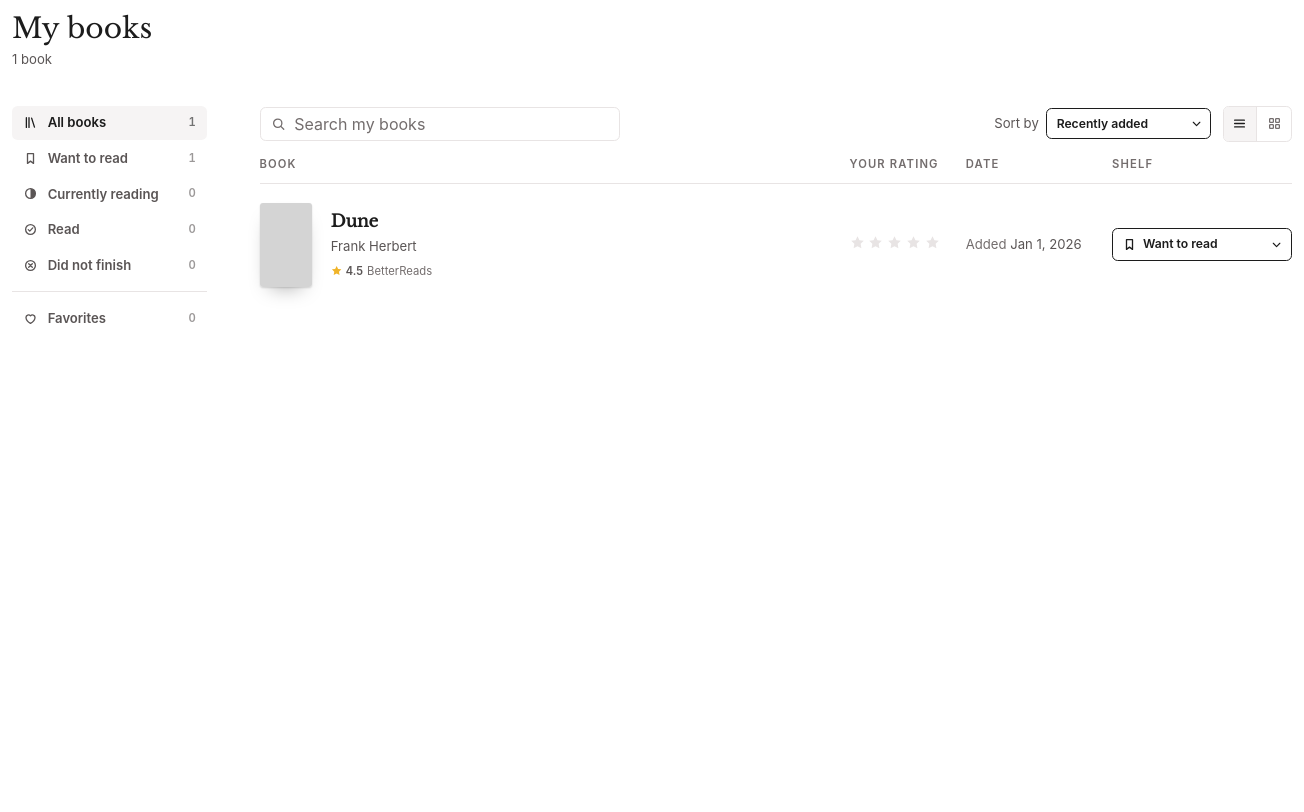
it: ShelfList › should say when a rating from a cover fails to save
This screenshot has width=1304, height=812.
Check: the link "Dune" is shown, box [331, 211, 378, 232]
What coordinates should you click on to do the following:
click the button named "Cover view"
I would click on:
 (1274, 124)
Its box is [1257, 107, 1291, 141].
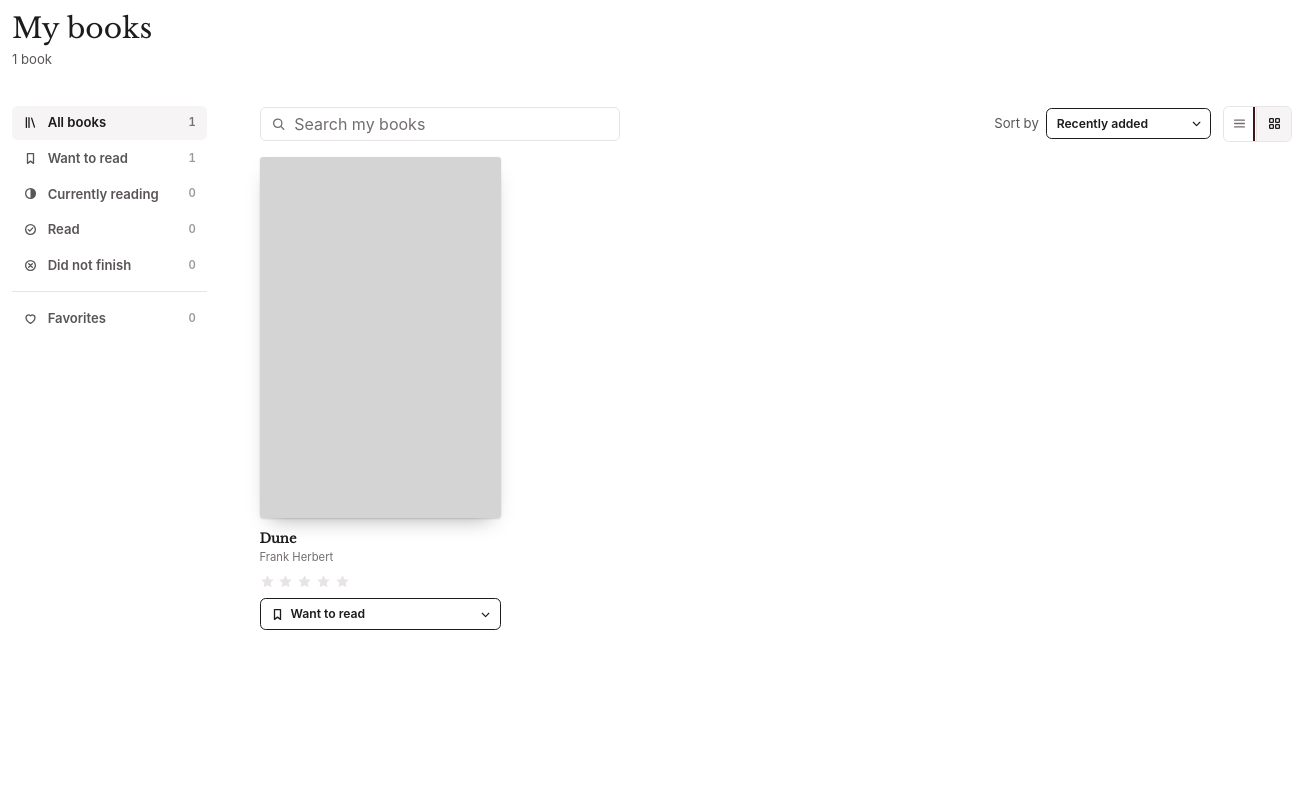
What coordinates should you click on to do the following:
click the button named "Rate 4 of 5"
I would click on:
 (323, 581)
Its box is [316, 574, 331, 589].
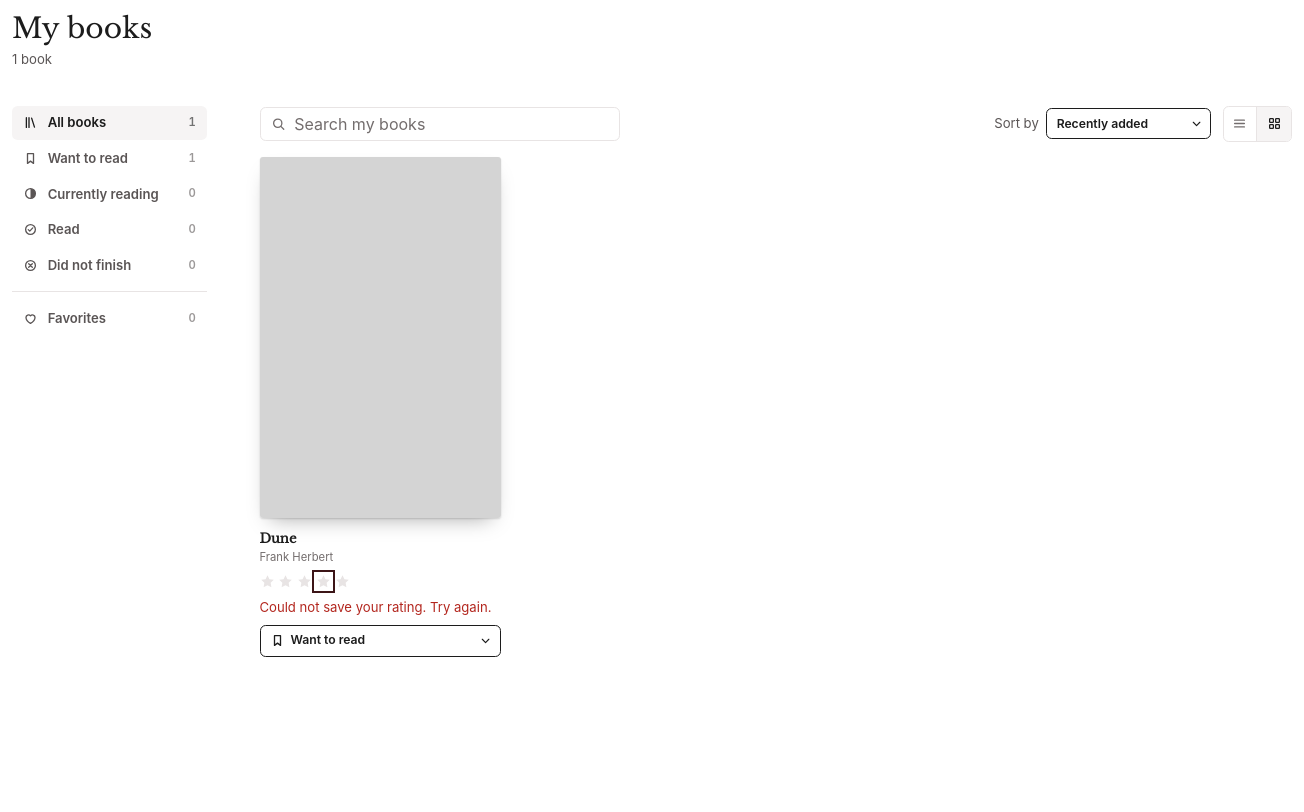
Check: the text "Could not save your rating. Try again." is shown, box [260, 598, 501, 617]
